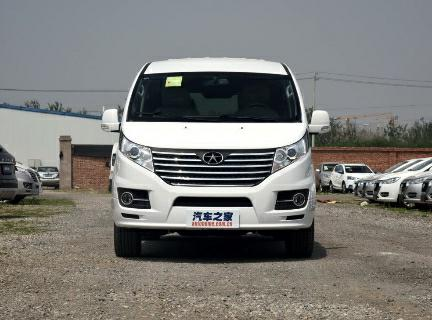江淮-瑞风M5: (99, 54, 336, 258)
